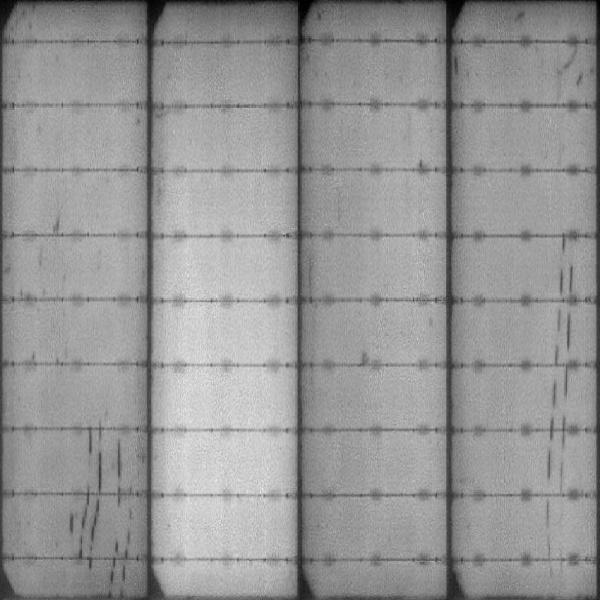scratch: (550, 233, 575, 430), (73, 428, 102, 565), (541, 434, 567, 556), (109, 521, 133, 600), (561, 46, 590, 86), (114, 434, 126, 513)
